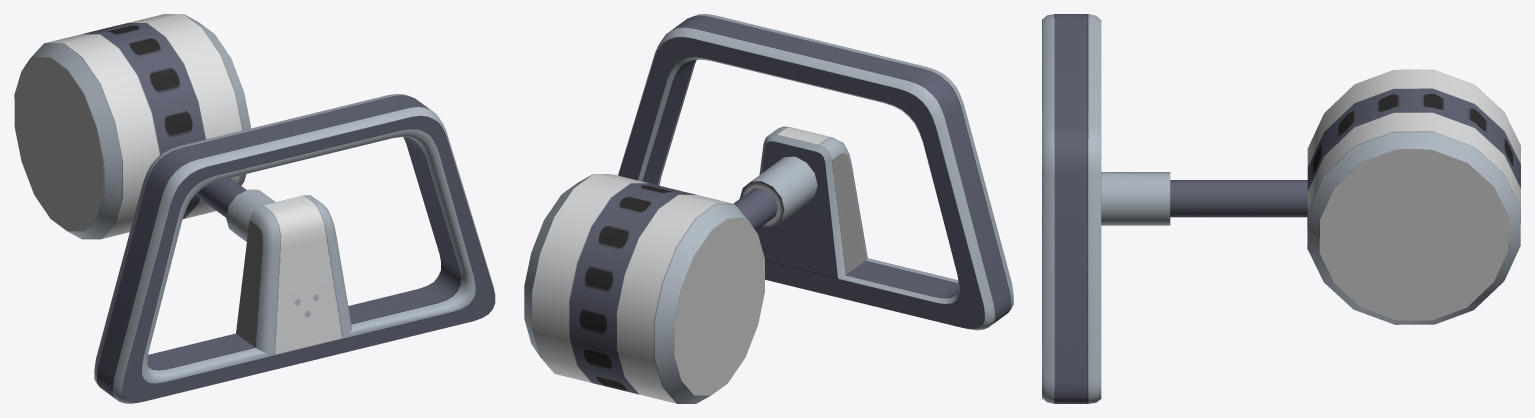
The model's file is Steering_Wheel_01.FBX.
3 renders of one model, left to right at view 1: azimuth 30°, elevation 25°; view 2: azimuth 150°, elevation 25°; view 3: azimuth 270°, elevation 25°, orthographic. The views are drawn at different scales.
Parts seen in each view (by area): view 1: Steering, Steering_Wheel_01; view 2: Steering, Steering_Wheel_01; view 3: Steering_Wheel_01, Steering.
Boxes of the visible parts, bbox=[...] form: Steering: bbox=[94, 94, 495, 403]; Steering_Wheel_01: bbox=[14, 14, 250, 239]; Steering: bbox=[618, 14, 1013, 330]; Steering_Wheel_01: bbox=[524, 174, 764, 403]; Steering_Wheel_01: bbox=[1307, 69, 1520, 324]; Steering: bbox=[1042, 14, 1307, 403].
Bounding box in the file's own units: 0.7186 × 0.4089 × 0.7413.
